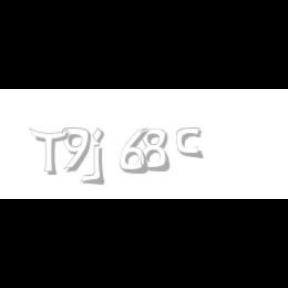6: (120, 128, 148, 176)
8: (140, 128, 170, 172)
9: (62, 128, 90, 172)
T: (29, 128, 69, 176)
c: (176, 128, 206, 160)
j: (90, 128, 118, 186)
